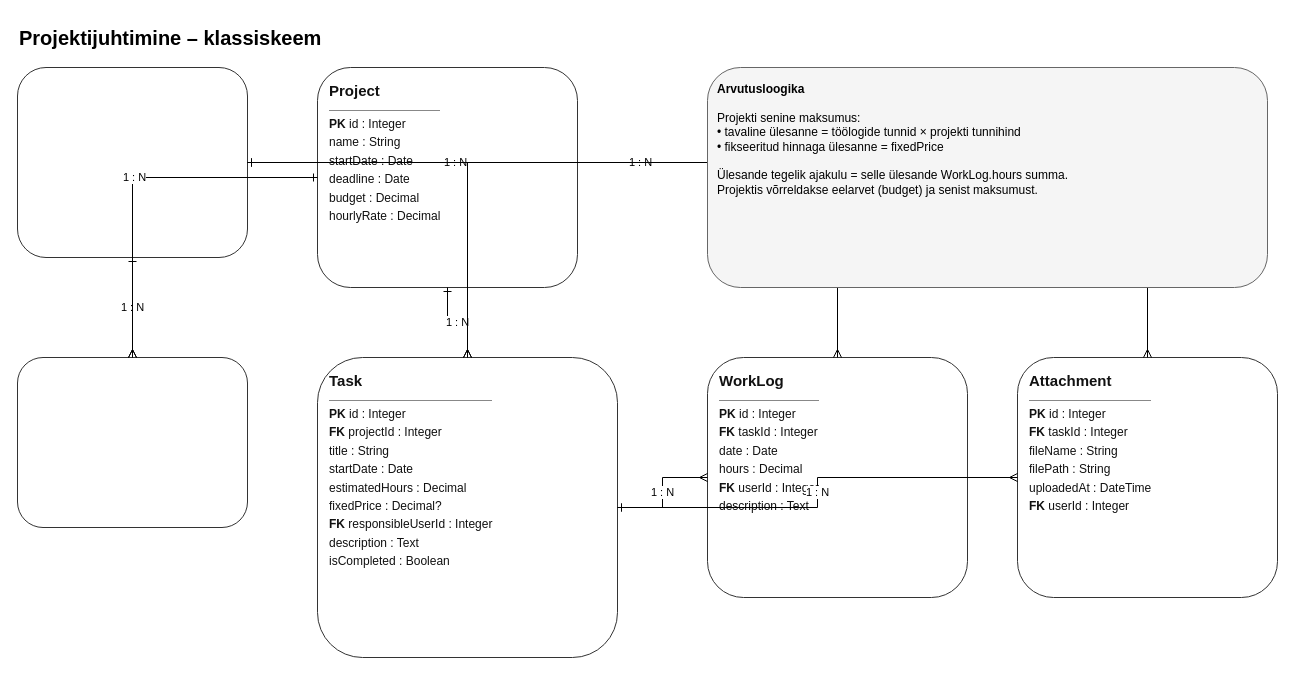
Image size: 1295x675. Some labels were removed from this diagram. The centre of each missing label's shape, as x and y in pixels:
ProjectMember PK id : Integer FK projectId : Integer FK userId : Integer: (x=132, y=442)
User PK id : Integer username : String email : String password : String: (x=132, y=162)
